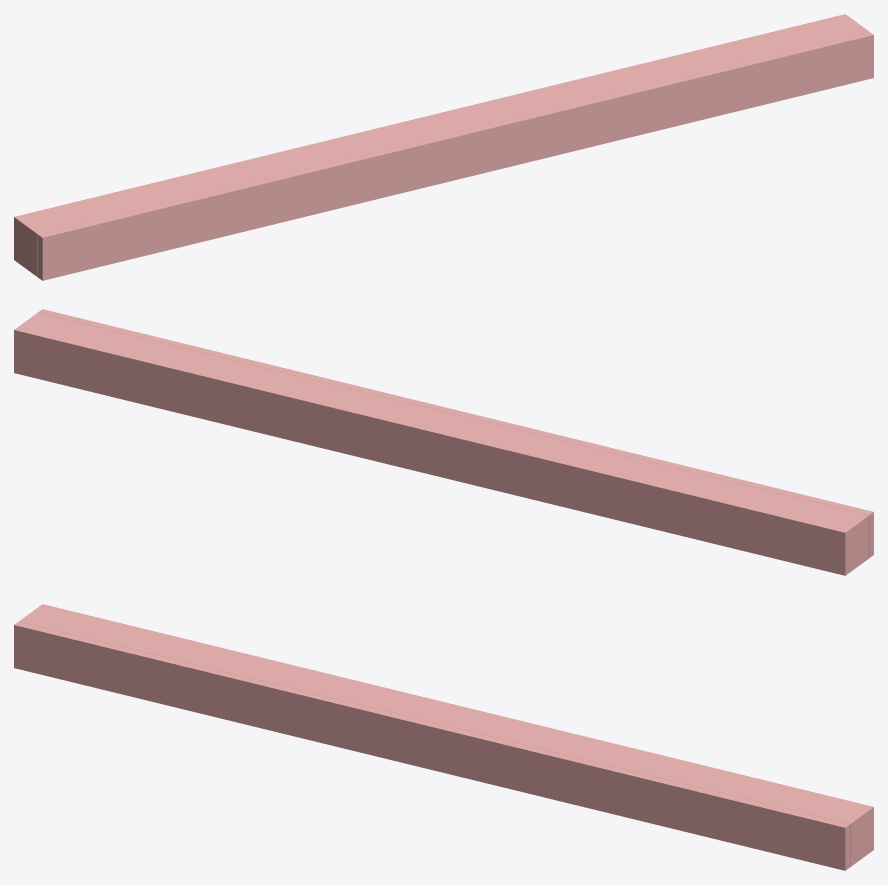
File: tool_6-Group_120.gltf
3 views of the same model, one above another, from view 1: azimuth 30°, elevation 25°; view 2: azimuth 150°, elevation 25°; view 3: azimuth 330°, elevation 25° (orthographic).
Parts seen in each view (by area): view 1: <组件#91>_143, <组件#91>_136, <组件#91>_148, <组件#91>_138, <组件#91>_147, <组件#91>_146, <组件#90>_146, <组件#90>_139, <组件#90>_138, <组件#91>_137; view 2: <组件#90>_138, <组件#90>_148, <组件#90>_136, <组件#90>_140, <组件#90>_144, <组件#91>_143, <组件#91>_137, <组件#91>_146, <组件#90>_146, <组件#90>_139; view 3: <组件#91>_143, <组件#91>_136, <组件#91>_148, <组件#91>_138, <组件#91>_147, <组件#91>_146, <组件#90>_146, <组件#90>_139, <组件#90>_138, <组件#91>_137.
Boxes of the visible parts, left/top/right/bottom form: <组件#91>_143: left=38, top=31, right=873, bottom=246; <组件#91>_136: left=38, top=61, right=873, bottom=272; <组件#91>_148: left=38, top=69, right=873, bottom=280; <组件#91>_138: left=38, top=52, right=873, bottom=263; <组件#91>_147: left=38, top=43, right=873, bottom=254; <组件#91>_146: left=33, top=28, right=868, bottom=242; <组件#90>_146: left=18, top=17, right=854, bottom=232; <组件#90>_139: left=23, top=21, right=859, bottom=235; <组件#90>_138: left=14, top=14, right=849, bottom=228; <组件#91>_137: left=28, top=24, right=863, bottom=238; <组件#90>_138: left=14, top=326, right=849, bottom=541; <组件#90>_148: left=14, top=356, right=849, bottom=567; <组件#90>_136: left=14, top=364, right=849, bottom=575; <组件#90>_140: left=14, top=347, right=849, bottom=558; <组件#90>_144: left=14, top=338, right=849, bottom=549; <组件#91>_143: left=38, top=309, right=873, bottom=523; <组件#91>_137: left=28, top=316, right=864, bottom=530; <组件#91>_146: left=33, top=312, right=868, bottom=527; <组件#90>_146: left=19, top=323, right=854, bottom=537; <组件#90>_139: left=24, top=319, right=859, bottom=533; <组件#91>_143: left=14, top=621, right=849, bottom=836; <组件#91>_136: left=14, top=651, right=849, bottom=862; <组件#91>_148: left=14, top=659, right=849, bottom=870; <组件#91>_138: left=14, top=642, right=849, bottom=853; <组件#91>_147: left=14, top=633, right=849, bottom=844; <组件#91>_146: left=19, top=618, right=854, bottom=832; <组件#90>_146: left=33, top=607, right=869, bottom=822; <组件#90>_139: left=28, top=611, right=864, bottom=825; <组件#90>_138: left=38, top=604, right=873, bottom=818; <组件#91>_137: left=24, top=614, right=859, bottom=828.
Bounding box in the file's own units: 119 × 5.91 × 7.11.
